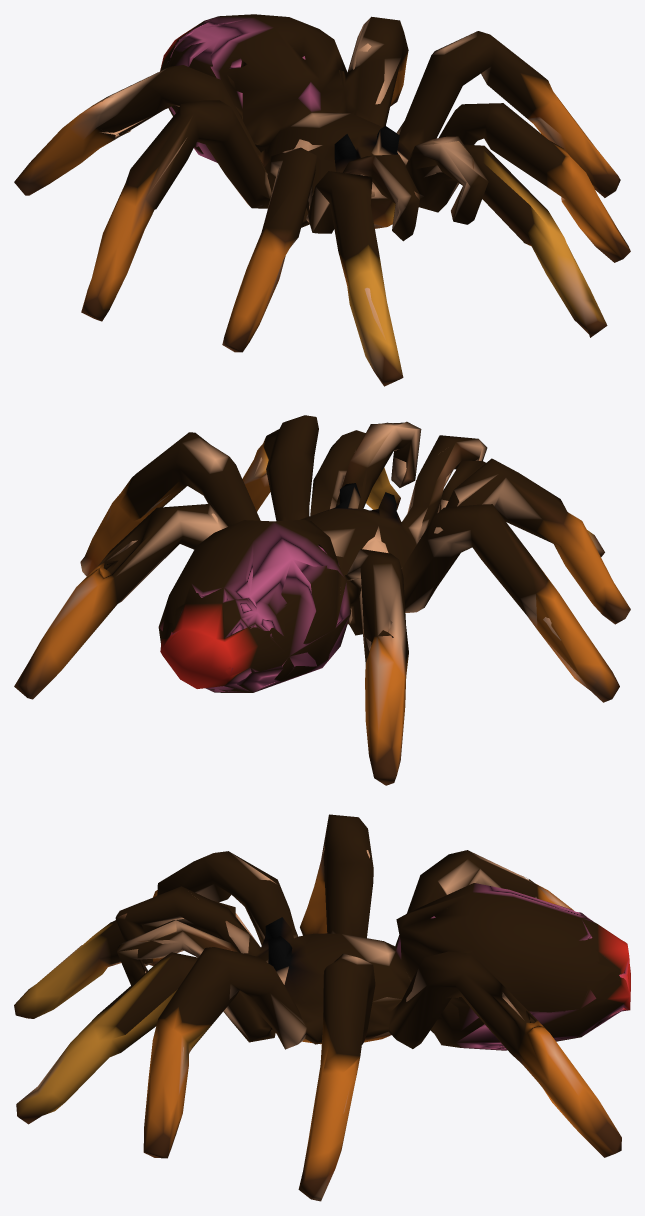
The model's file is gen3d-tarantula-lod0.glb.
3 views of the same model, one above another, from view 1: azimuth 30°, elevation 25°; view 2: azimuth 150°, elevation 25°; view 3: azimuth 270°, elevation 25° (orthographic). The views are drawn at different scales.
Parts seen in each view (by area): view 1: part_0; view 2: part_0; view 3: part_0.
Boxes of the visible parts, <box> form: part_0: <box>14,14,630,386</box>; part_0: <box>14,415,630,785</box>; part_0: <box>14,814,630,1201</box>.
Size of the model in its own units: 3.08 by 0.9906 by 2.98.
